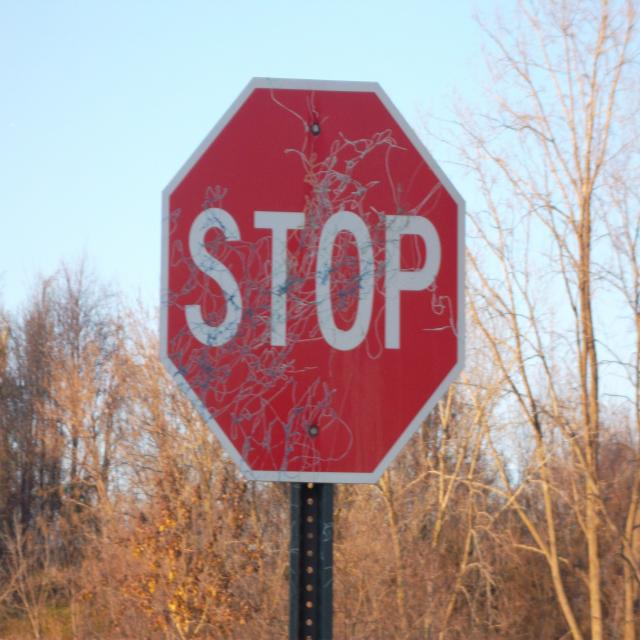stop: (154, 66, 471, 495)
